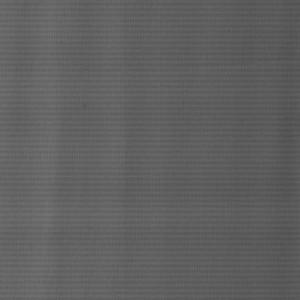Wrinkle: (1, 1, 154, 300), (1, 183, 300, 251)
